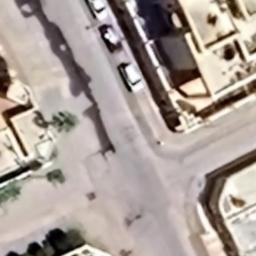SUV: (117, 60, 145, 96)
pickup: (97, 22, 124, 53), (84, 0, 108, 20)
